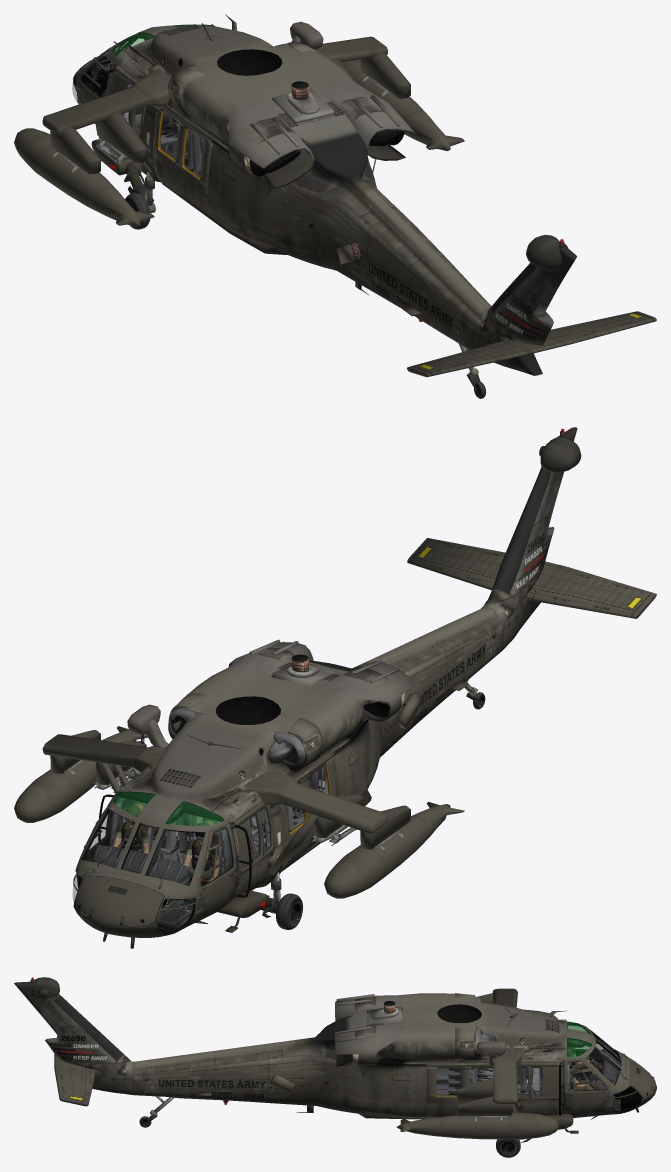
Rendered from body.obj.
3 views of the same model, one above another, from view 1: azimuth 30°, elevation 25°; view 2: azimuth 150°, elevation 25°; view 3: azimuth 270°, elevation 25° (orthographic). The views are drawn at different scales.
Parts seen in each view (by area): view 1: fuselage, Door_L, elevator, cabinDoor_L; view 2: fuselage, elevator, cabinDoor_L, Door_L, pilot, Tyre_L; view 3: fuselage, Door_R, cabinDoor_R, elevator, pilot, Window_R2, window_R1, tyre_R, cabinDoor_L.
Part boxes in pixels (<box>): fuselage: <box>14,14,576,392</box>; Door_L: <box>153,107,215,217</box>; elevator: <box>407,311,656,377</box>; cabinDoor_L: <box>76,51,115,125</box>; fuselage: <box>14,427,581,948</box>; elevator: <box>407,538,656,618</box>; cabinDoor_L: <box>193,822,237,921</box>; Door_L: <box>281,756,338,868</box>; pilot: <box>112,805,219,909</box>; Tyre_L: <box>276,893,302,929</box>; fuselage: <box>14,977,656,1142</box>; Door_R: <box>426,1066,493,1117</box>; cabinDoor_R: <box>563,1058,611,1114</box>; elevator: <box>54,1035,94,1106</box>; pilot: <box>567,1047,603,1090</box>; Window_R2: <box>529,1066,544,1097</box>; window_R1: <box>516,1066,529,1097</box>; tyre_R: <box>496,1139,520,1157</box>; cabinDoor_L: <box>567,1024,603,1066</box>.
Size of the model in its own units: 6.8 by 4.24 by 16.07.
10 materials, 6 textured.
